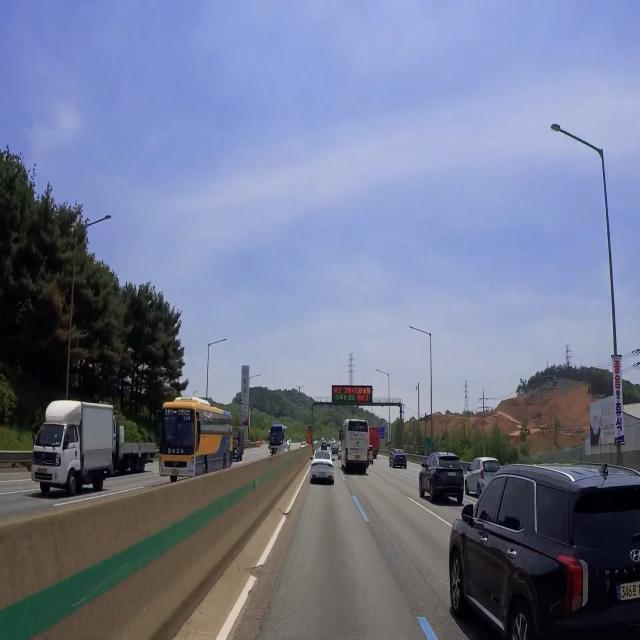car: (616, 581, 640, 604), (352, 452, 366, 466), (35, 466, 51, 477), (170, 466, 180, 480), (448, 467, 457, 480), (317, 471, 328, 479), (397, 455, 406, 461)
